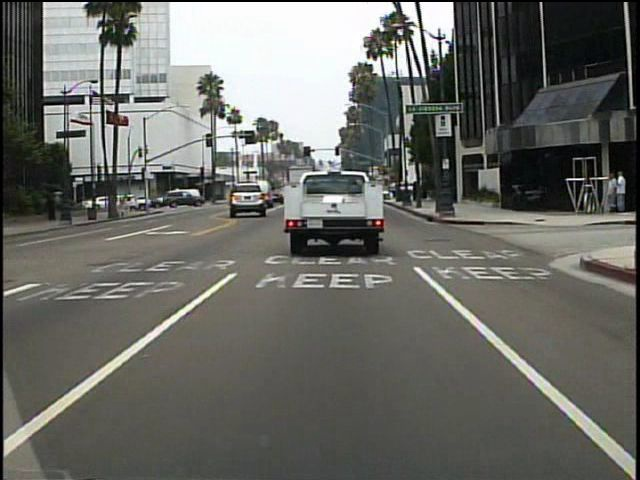person: (614, 168, 628, 216), (604, 170, 618, 213), (130, 192, 141, 213)
